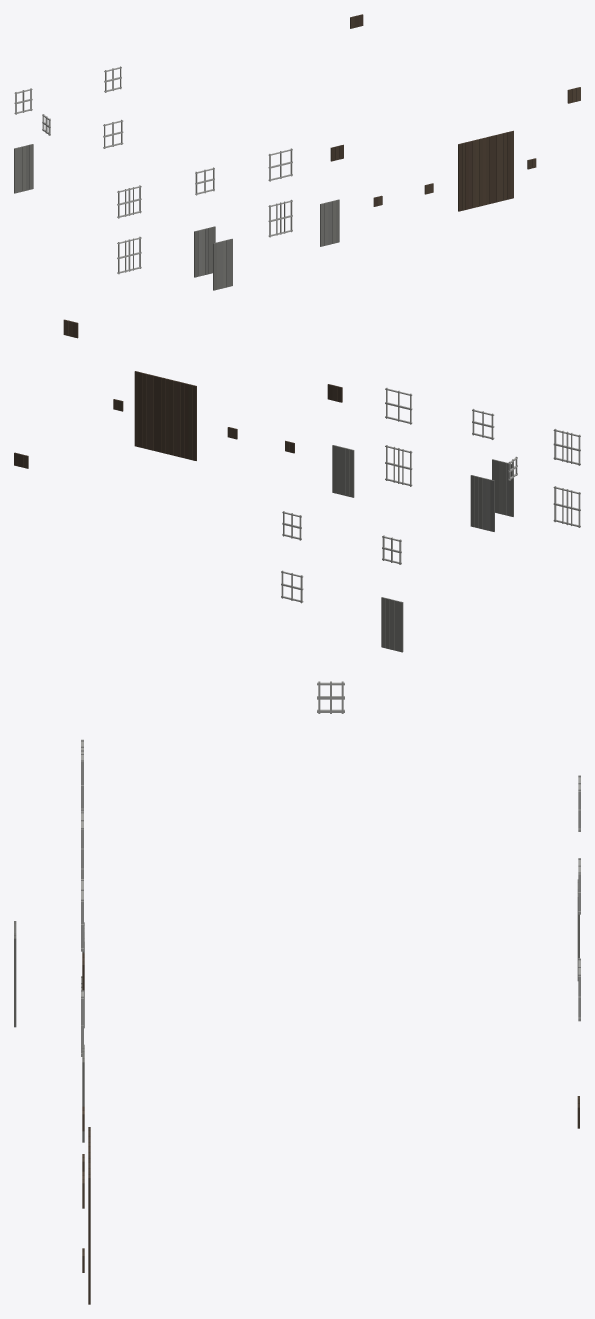
File: SM_Bld_223_Wood.glb
3 views of the same model, one above another, from view 1: azimuth 30°, elevation 25°; view 2: azimuth 150°, elevation 25°; view 3: azimuth 270°, elevation 25° (orthographic). The views are drawn at different scales.
Parts seen in each view (by area): view 1: SM_Bld_223_Wood; view 2: SM_Bld_223_Wood; view 3: SM_Bld_223_Wood.
Part boxes in pixels (bbox=[...]): SM_Bld_223_Wood: bbox=[14, 14, 580, 290]; SM_Bld_223_Wood: bbox=[14, 319, 580, 652]; SM_Bld_223_Wood: bbox=[14, 681, 580, 1304].
Bounding box in the file's own units: 21.96 × 5.95 × 12.17.
